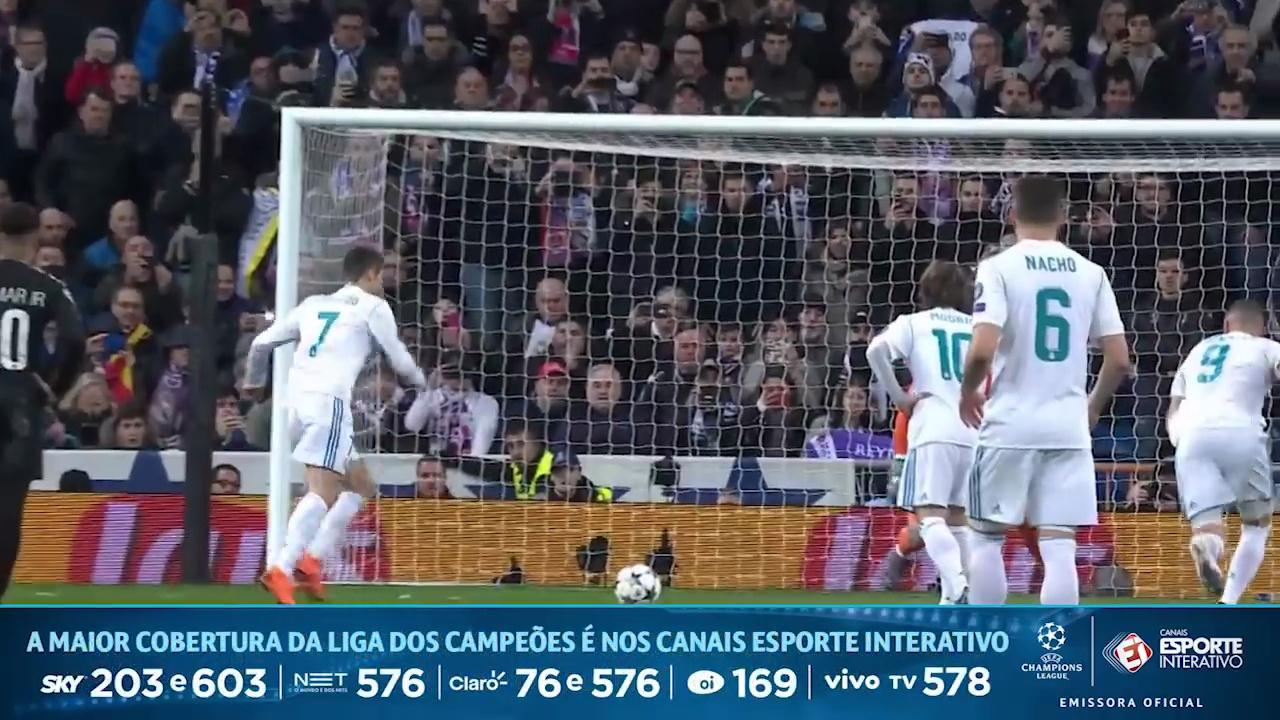football: (615, 564, 661, 603)
player: (960, 176, 1129, 604), (245, 247, 425, 603), (867, 261, 976, 603), (1168, 300, 1279, 603), (0, 203, 84, 594), (892, 411, 909, 493)
